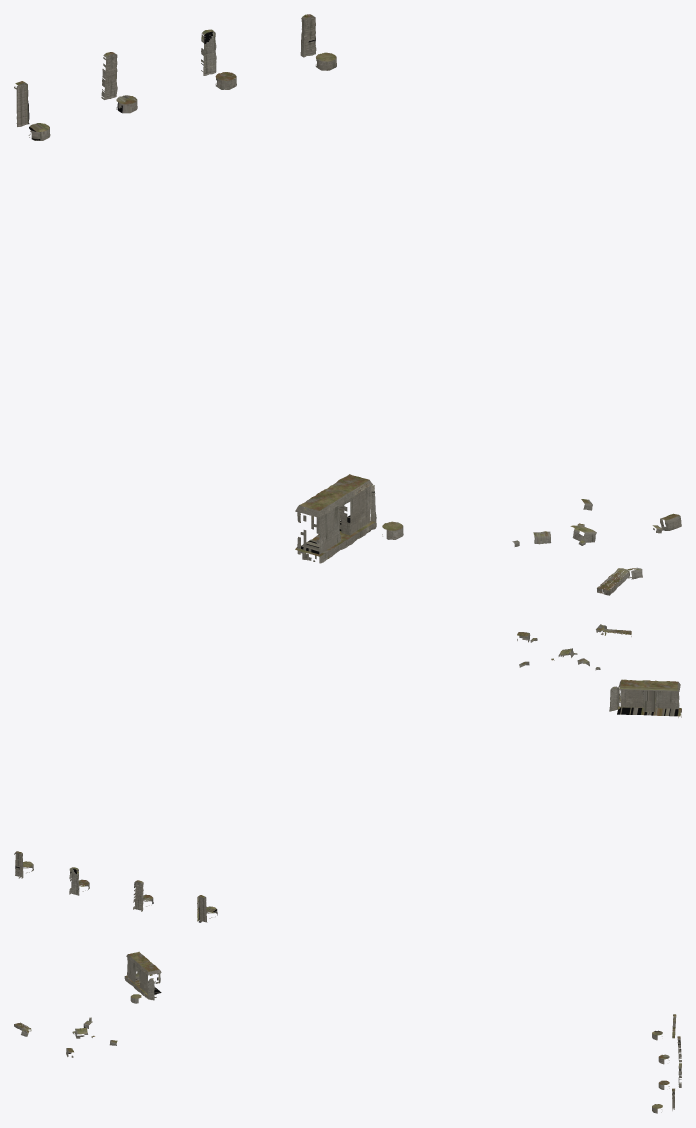
The model's file is plaza.glb.
3 views of the same model, one above another, from view 1: azimuth 30°, elevation 25°; view 2: azimuth 150°, elevation 25°; view 3: azimuth 270°, elevation 25° (orthographic). The views are drawn at different scales.
Parts seen in each view (by area): view 1: bake_plaza; view 2: bake_plaza; view 3: bake_plaza.
Boxes of the visible parts, left/top/right/bottom form: bake_plaza: left=14, top=14, right=681, bottom=595; bake_plaza: left=14, top=624, right=681, bottom=922; bake_plaza: left=14, top=951, right=681, bottom=1113.
Size of the model in its own units: 48.49 by 4.55 by 99.96.
Materials: 1 (1 with a texture image).
